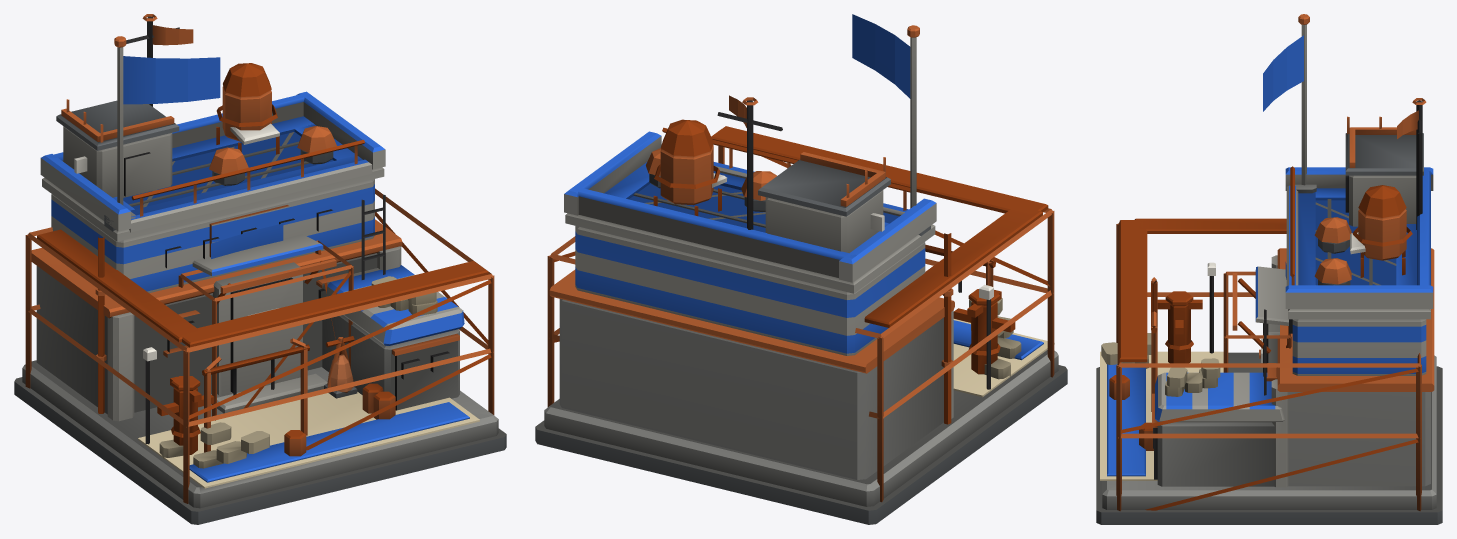
3 renders of one model, left to right at view 1: azimuth 30°, elevation 25°; view 2: azimuth 150°, elevation 25°; view 3: azimuth 270°, elevation 25°, orthographic. The views are drawn at different scales.
Parts seen in each view (by area): view 1: body, scaffoldFrame, swayFlag, scaffoldPorch, swayBanner, swayFlag2, swayBell; view 2: body, scaffoldFrame, swayFlag; view 3: body, scaffoldFrame, swayFlag, scaffoldPorch.
Boxes of the visible parts, x1,y1,x2,y2 form: body: [14, 14, 506, 524]; scaffoldFrame: [25, 188, 494, 503]; swayFlag: [123, 56, 220, 104]; scaffoldPorch: [178, 240, 353, 420]; swayBanner: [211, 223, 283, 258]; swayFlag2: [152, 25, 193, 45]; swayBell: [327, 351, 353, 392]; body: [535, 25, 1067, 524]; scaffoldFrame: [547, 126, 1054, 502]; swayFlag: [852, 14, 910, 98]; body: [1096, 14, 1442, 524]; scaffoldFrame: [1116, 218, 1421, 511]; swayFlag: [1263, 35, 1303, 111]; scaffoldPorch: [1223, 271, 1291, 372].
Bounding box in the file's own units: 3 × 3.63 × 3.
